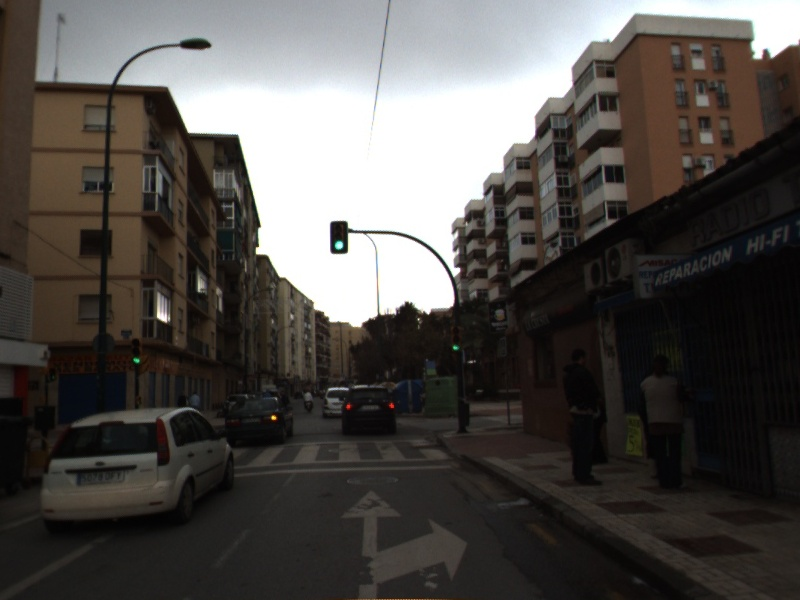STRAIGHT_RIGHT: (338, 488, 469, 600)
